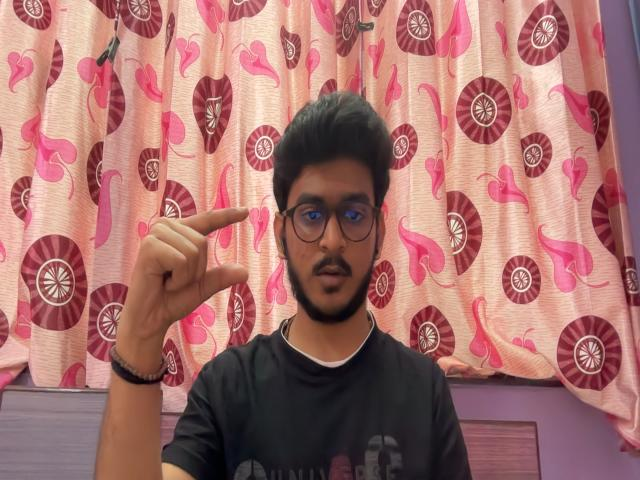No: (109, 196, 263, 360)
